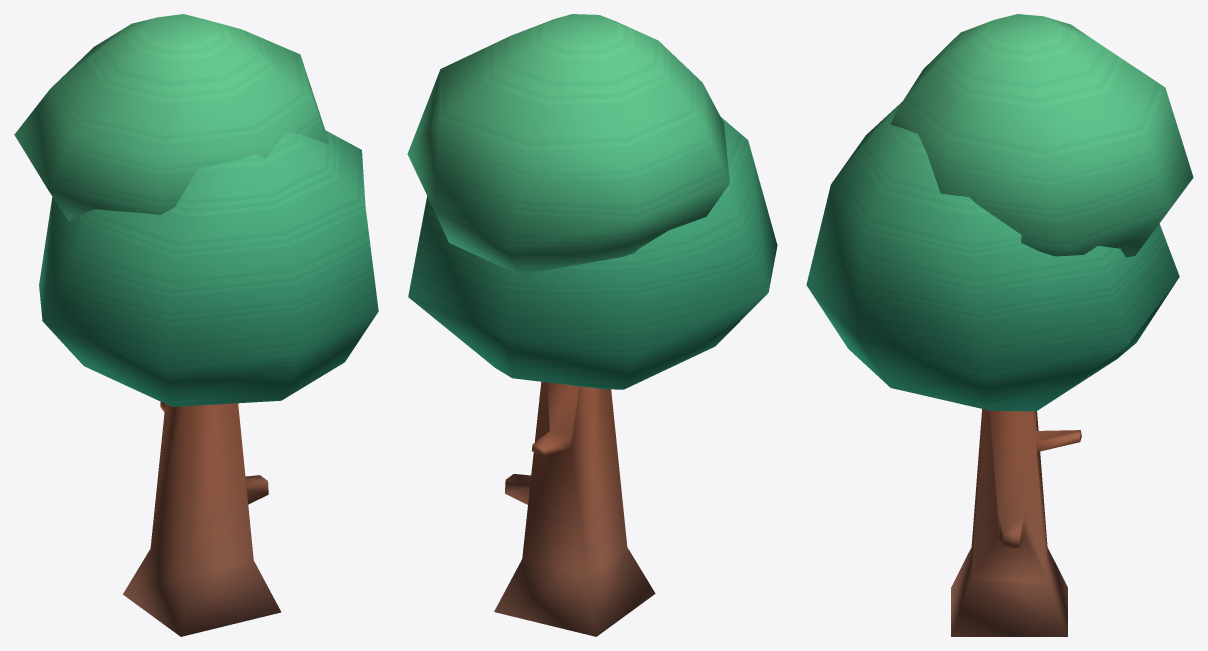
File: tree_spherical_b.glb
The picture shows the model from 3 angles, left to right: view 1: azimuth 30°, elevation 25°; view 2: azimuth 150°, elevation 25°; view 3: azimuth 270°, elevation 25°; orthographic projection.
Parts seen in each view (by area): view 1: tree_spherical__Mesh_001; view 2: tree_spherical__Mesh_001; view 3: tree_spherical__Mesh_001.
Part boxes in pixels (box(x1,y1,x2,y2)): tree_spherical__Mesh_001: box(14, 14, 378, 636); tree_spherical__Mesh_001: box(407, 14, 777, 636); tree_spherical__Mesh_001: box(806, 14, 1193, 636).
Size of the model in its own units: 0.9446 by 1.59 by 0.9669.
Materials: 1 (1 with a texture image).
